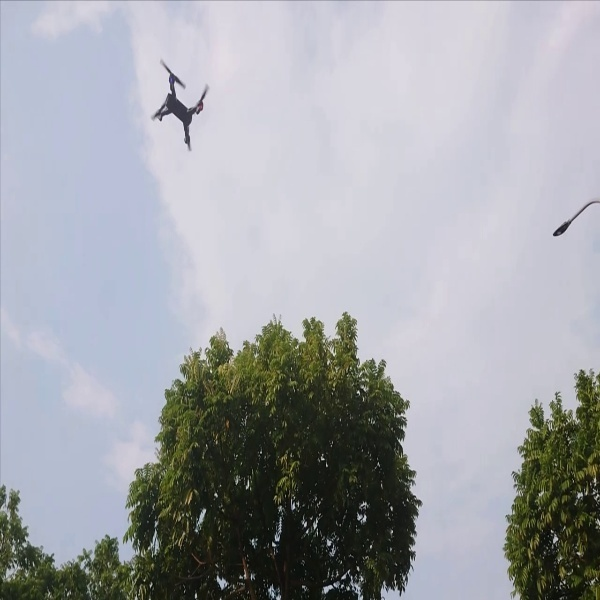drone: (138, 50, 219, 155)
